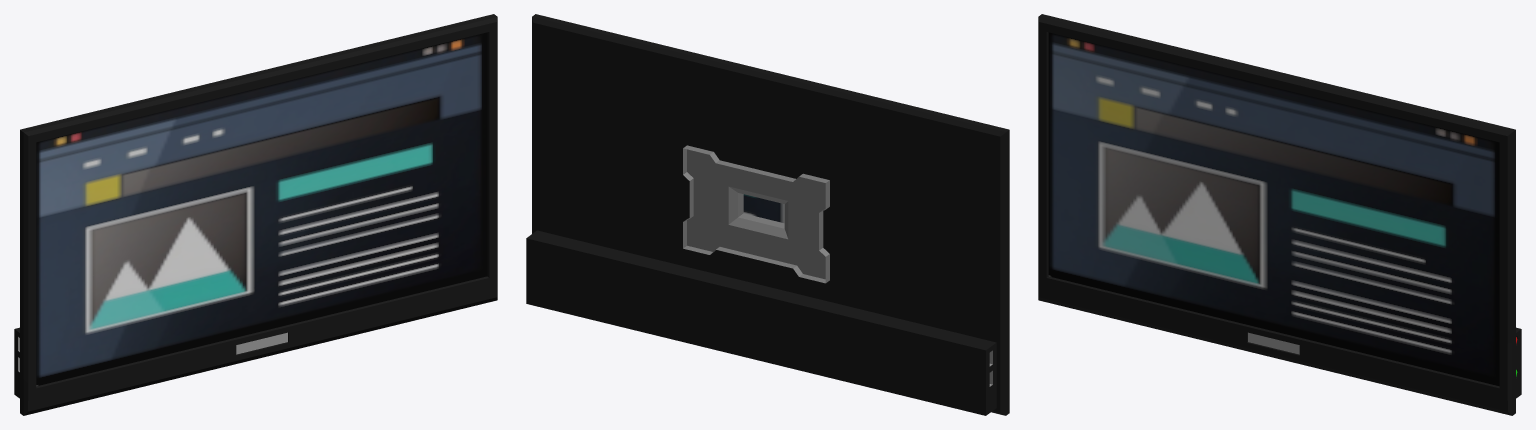
File: Int_TechTV02.fbx
The picture shows the model from 3 angles, left to right: view 1: azimuth 30°, elevation 25°; view 2: azimuth 150°, elevation 25°; view 3: azimuth 330°, elevation 25°; orthographic projection.
Visible parts, largest first — view 1: Int_TechTV02; view 2: Int_TechTV02; view 3: Int_TechTV02.
Part boxes in pixels (x1=…): Int_TechTV02: x1=14, y1=14, x2=497, y2=415; Int_TechTV02: x1=526, y1=14, x2=1009, y2=415; Int_TechTV02: x1=1038, y1=14, x2=1521, y2=415.
Size of what is drawn, in the model's own units: 262 by 19.5 by 150.
